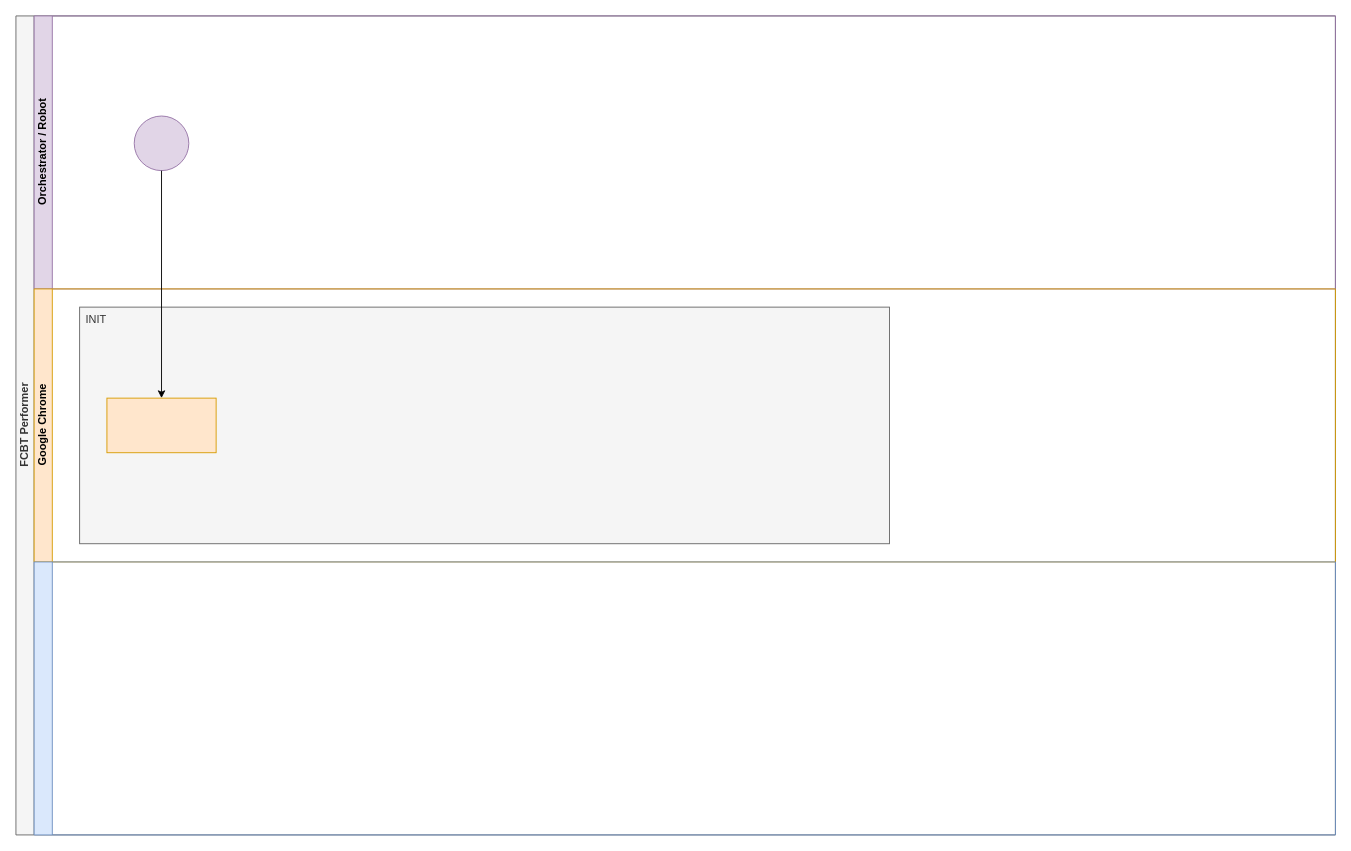
Some shapes in this 1351 by 851 pixel diagram are drawn without their labels. Each missing label, with the centre of its shape:
"Microsoft Excel" goes at [684,698].
"START" goes at [161,143].
